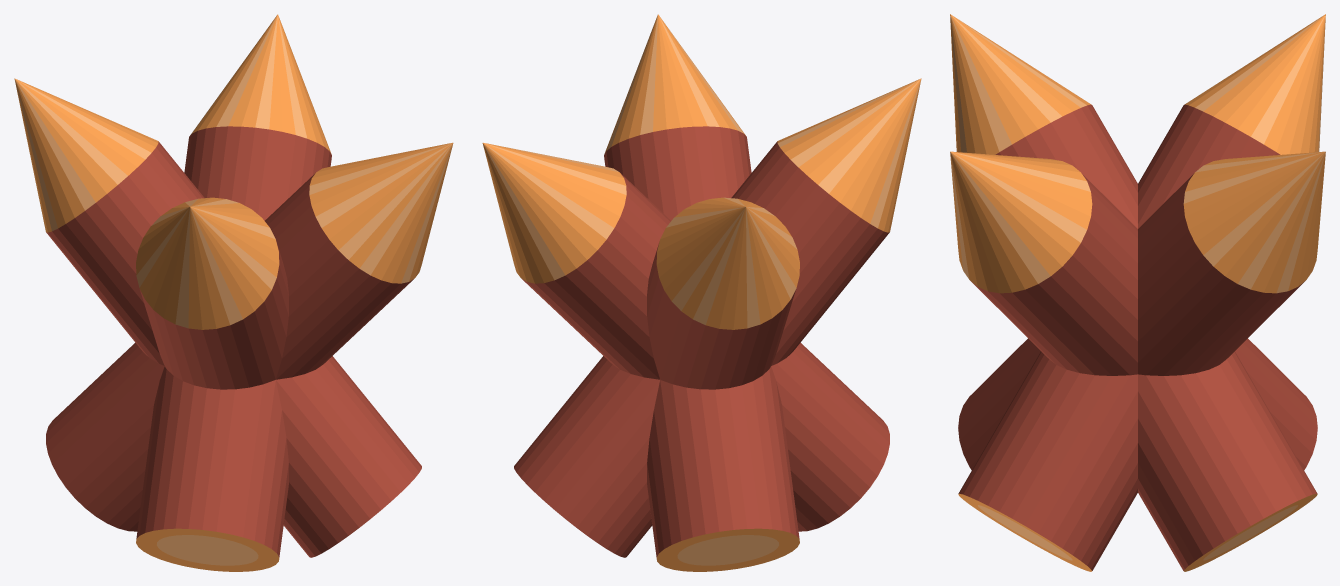
Rendered from Caltrop.fbx.
3 renders of one model, left to right at view 1: azimuth 30°, elevation 25°; view 2: azimuth 150°, elevation 25°; view 3: azimuth 270°, elevation 25°, orthographic. The views are drawn at different scales.
Visible parts, largest first — view 1: Cylinder.001; view 2: Cylinder.001; view 3: Cylinder.001.
Boxes of the visible parts, bbox=[...] form: Cylinder.001: bbox=[14, 14, 453, 571]; Cylinder.001: bbox=[482, 14, 921, 571]; Cylinder.001: bbox=[950, 14, 1325, 571].
Bounding box in the file's own units: 93.4 × 140 × 105.
